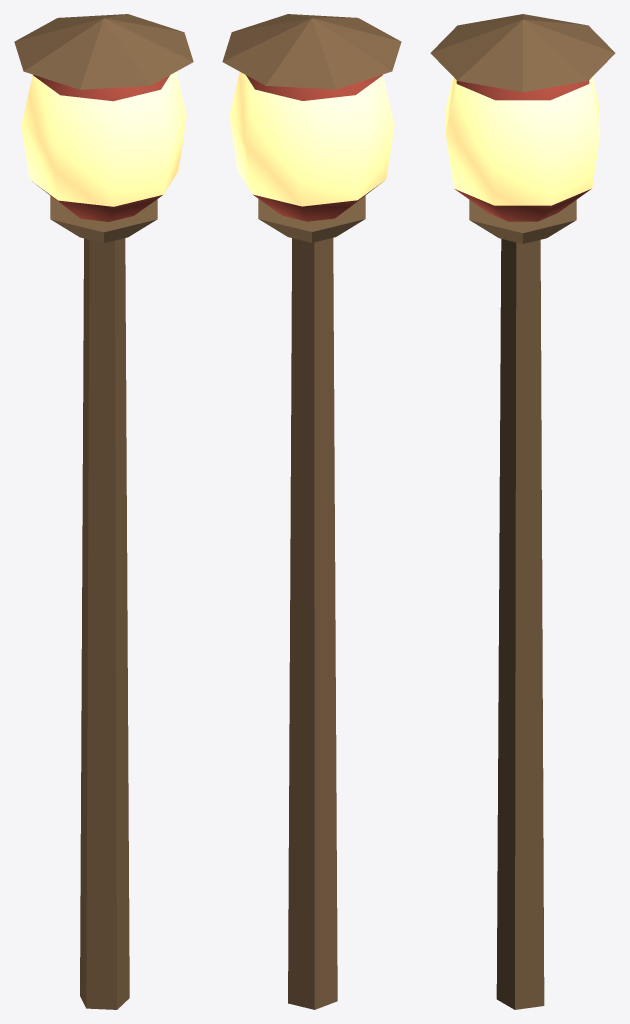
The model's file is lantern-post.glb.
3 renders of one model, left to right at view 1: azimuth 30°, elevation 25°; view 2: azimuth 150°, elevation 25°; view 3: azimuth 270°, elevation 25°, orthographic.
Parts seen in each view (by area): view 1: lantern-post; view 2: lantern-post; view 3: lantern-post.
Part boxes in pixels (x1=…): lantern-post: x1=14, y1=14, x2=193, y2=1009; lantern-post: x1=222, y1=14, x2=401, y2=1009; lantern-post: x1=430, y1=14, x2=615, y2=1009.
Size of the model in its own units: 0.6 by 3.5 by 0.6.
